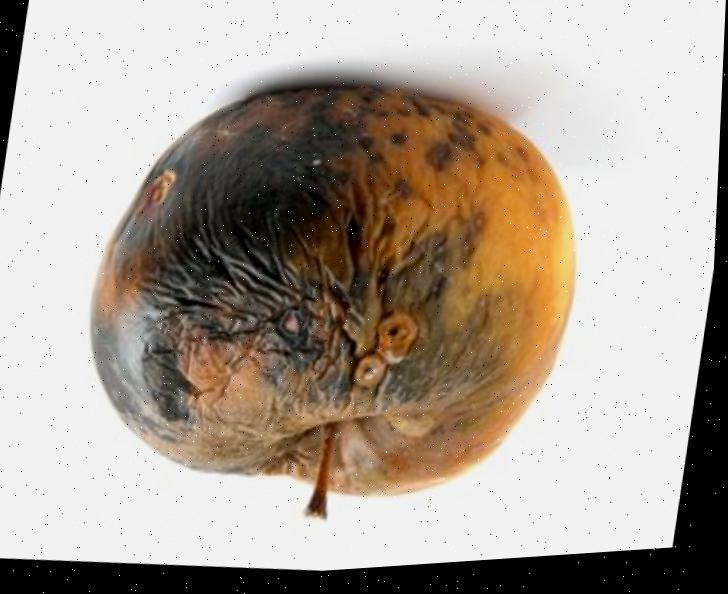ROT: (20, 10, 654, 560)
